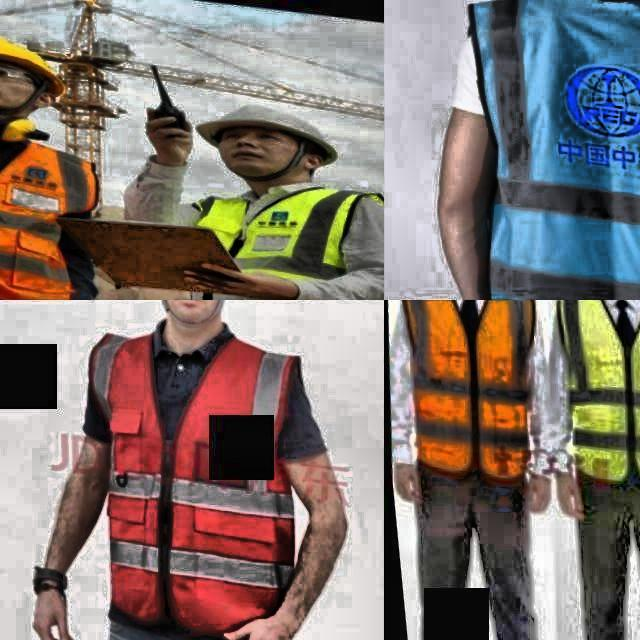safety_jacket: (63, 322, 304, 640), (439, 0, 640, 300), (384, 300, 536, 482), (178, 185, 384, 300), (0, 93, 83, 300), (548, 300, 640, 480)
